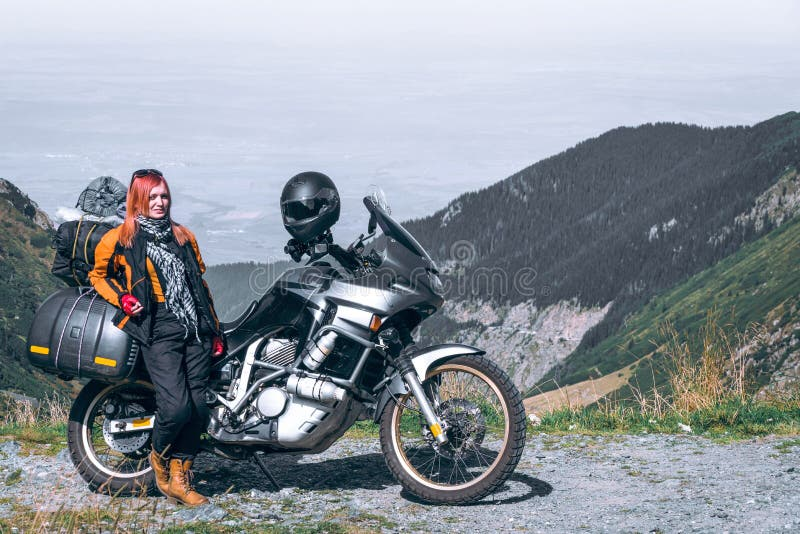Motorcycle: (205, 184, 518, 504)
Person: (89, 168, 232, 503)
